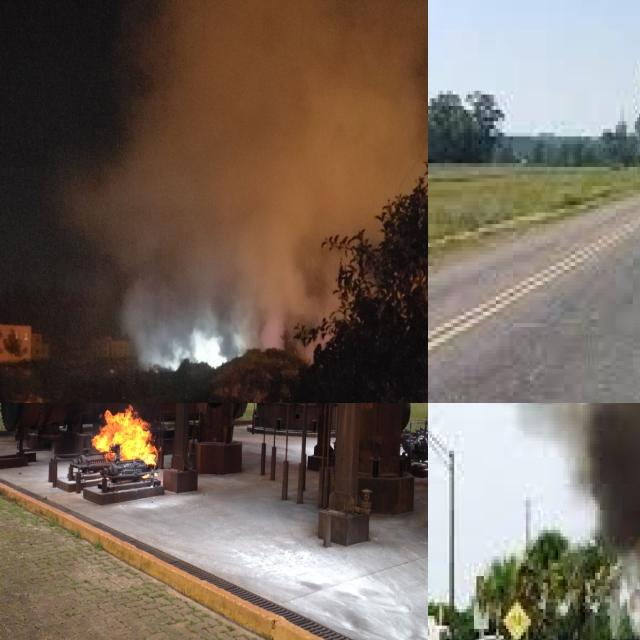fire: (95, 405, 160, 482)
smoke: (58, 0, 428, 369), (513, 403, 640, 543)
